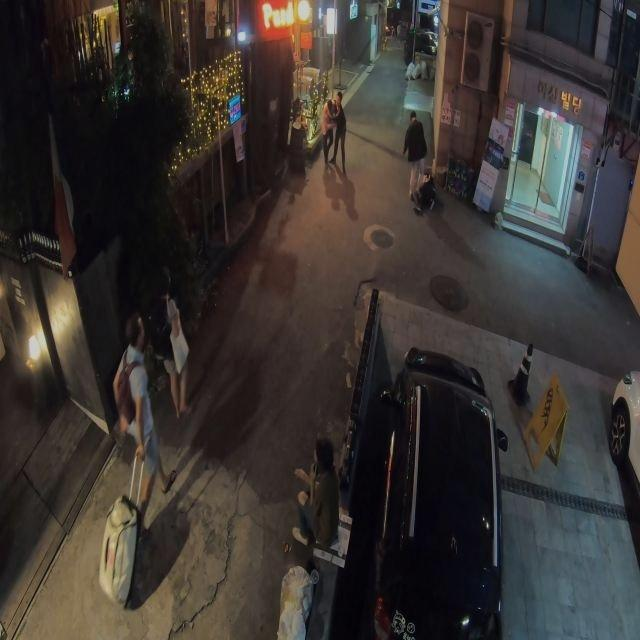fight: (111, 310, 173, 528), (404, 108, 433, 212)
non-fight: (292, 442, 340, 547)
